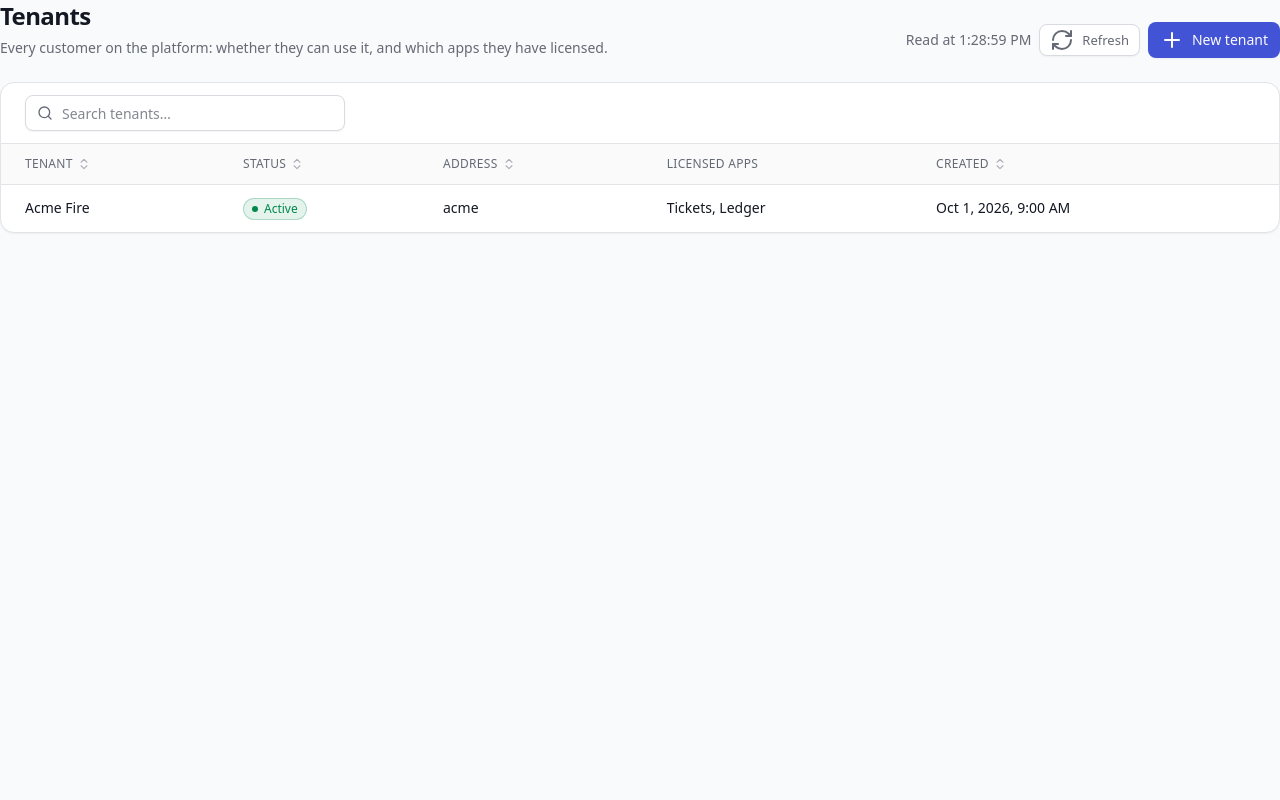
Test case: shows only the newest read when two finish out of order
The width and height of the screenshot is (1280, 800).
Expected: the row "Acme Fire Active acme Tickets, Ledger Oct 1, 2026, 9:00 AM" is shown, left=1, top=184, right=1279, bottom=232
Click the button "Refresh".
click(1090, 40)  # box left=1039, top=24, right=1140, bottom=56
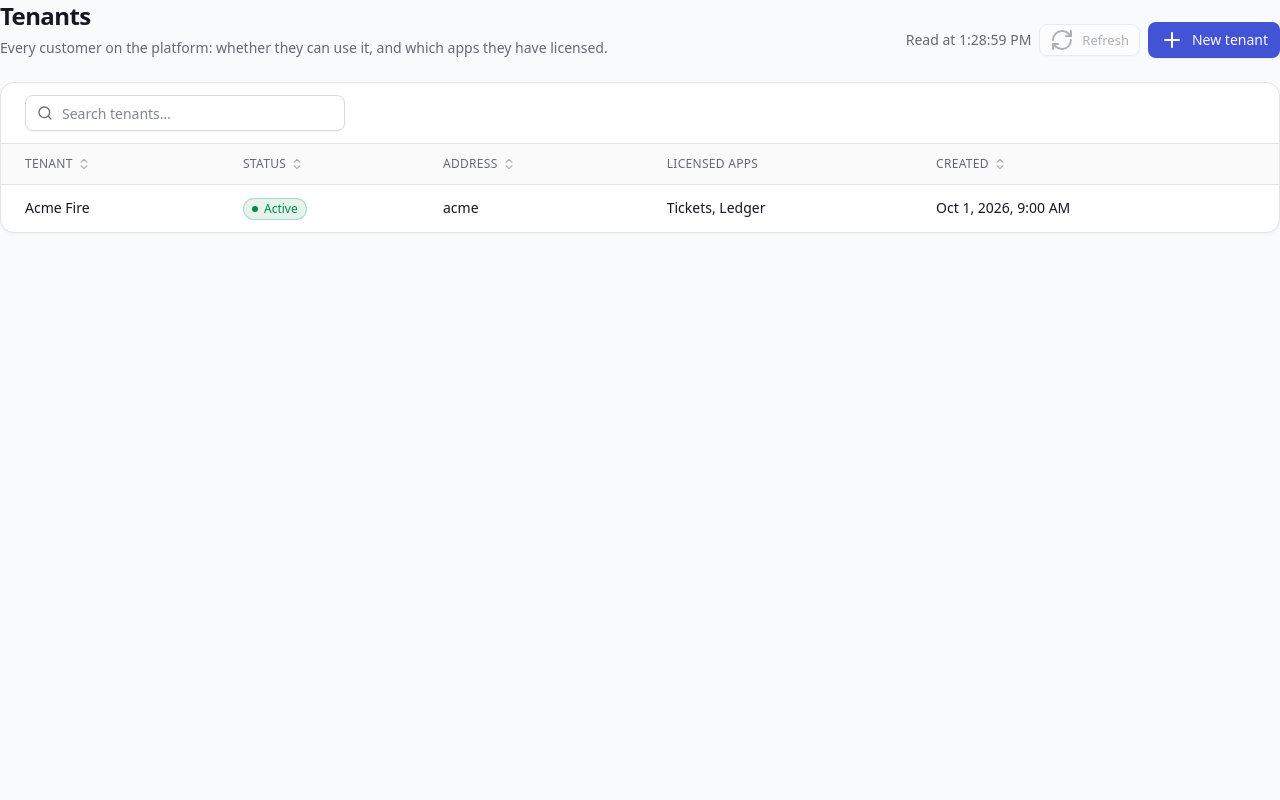
Click the button "New tenant".
click(1214, 40)  # box left=1148, top=22, right=1279, bottom=58
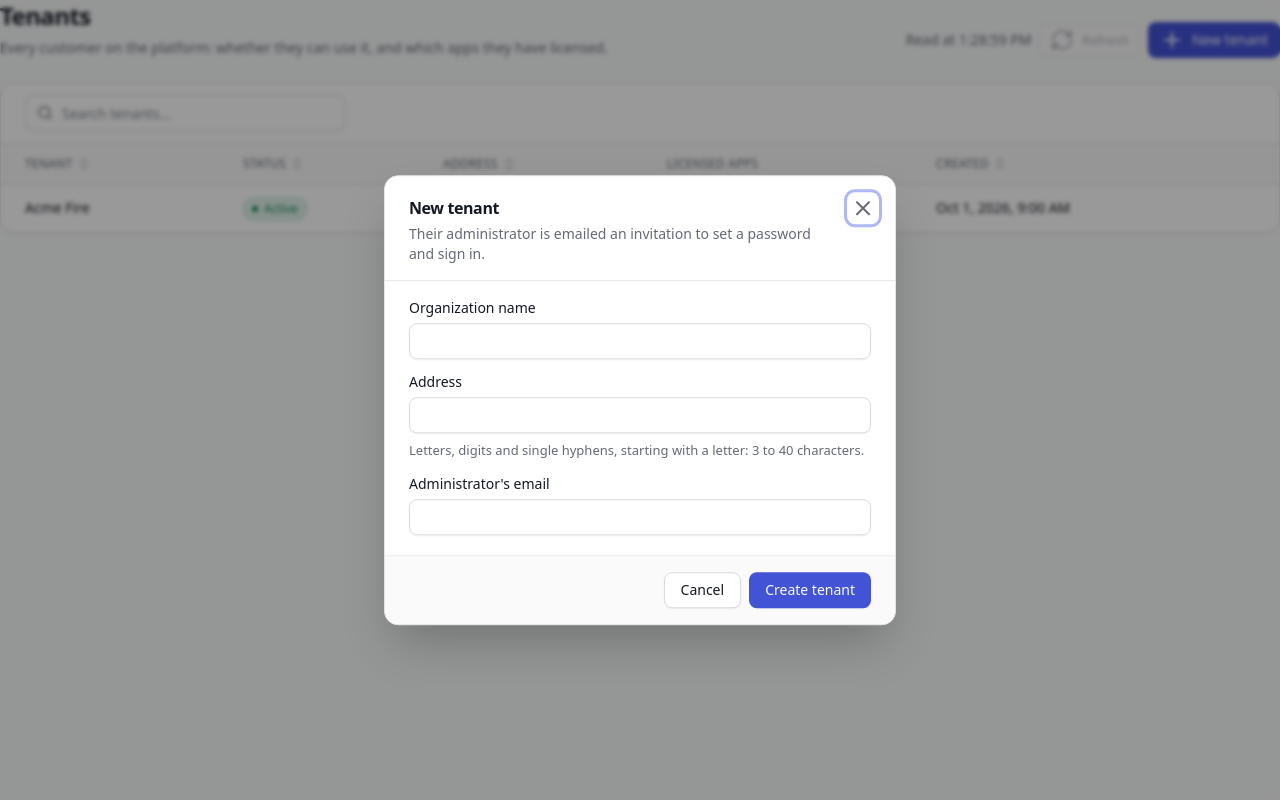
Click the button "Cancel".
click(702, 590)  # box left=664, top=572, right=741, bottom=608
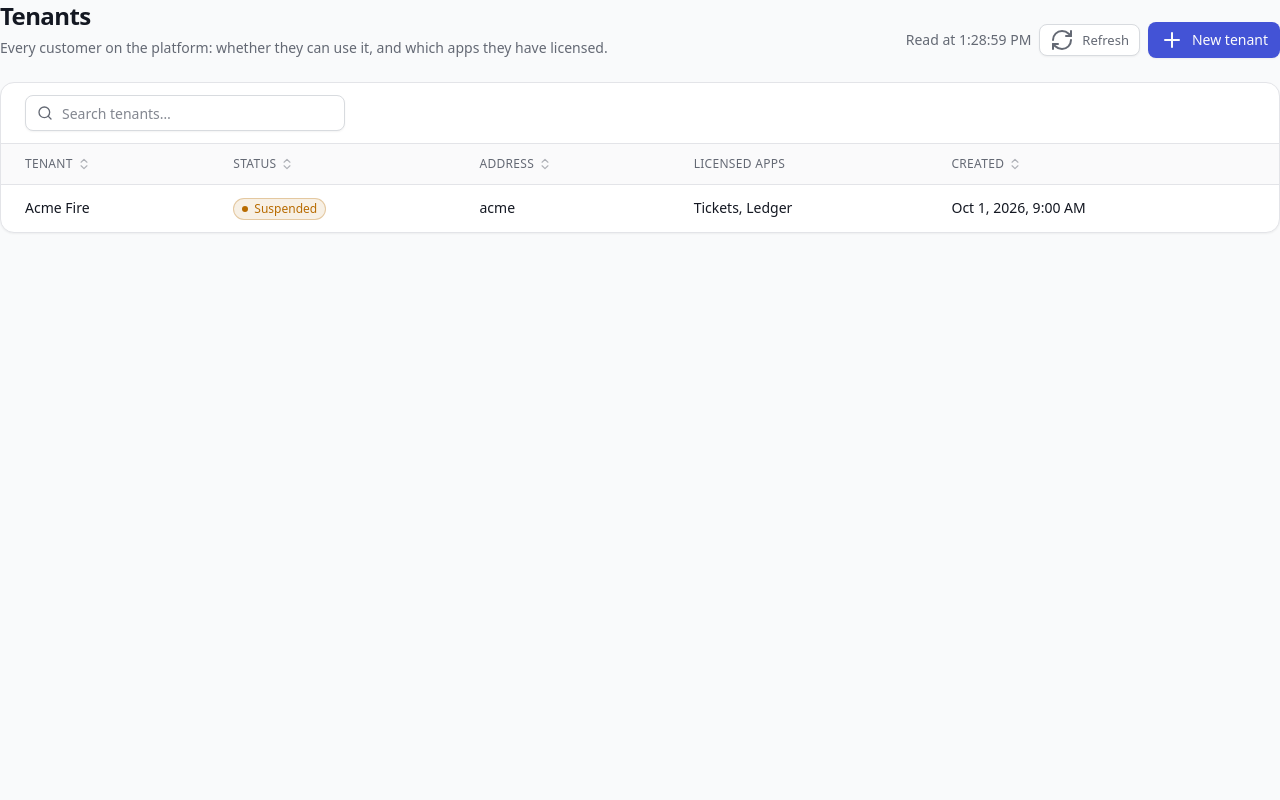
Now the row "Acme Fire" shows "Suspended", box left=254, top=200, right=317, bottom=216
